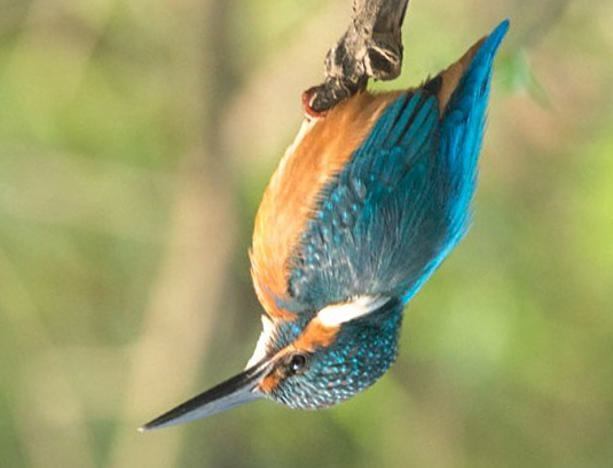kingfisher: (134, 12, 516, 452)
